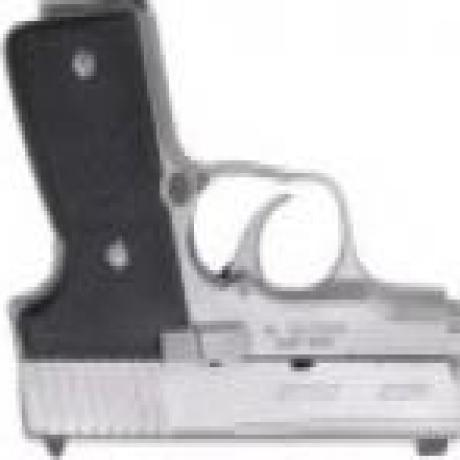weapon: (3, 6, 459, 458)
